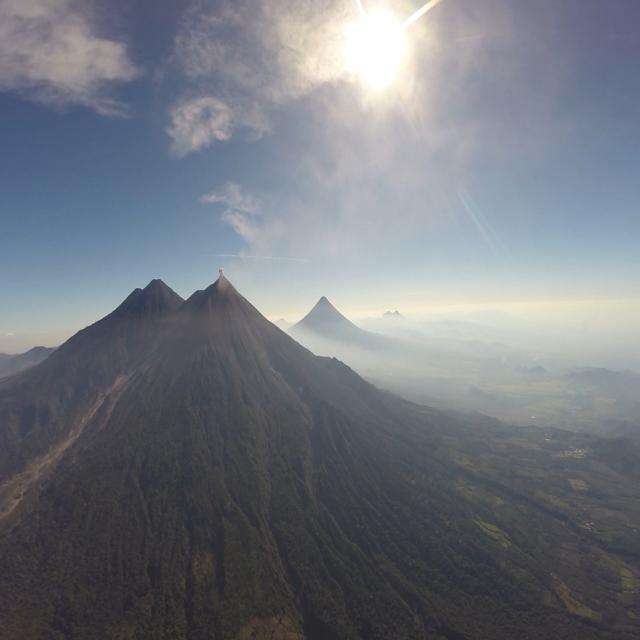Plume: (220, 268, 224, 276)
Summit: (202, 275, 245, 298)
